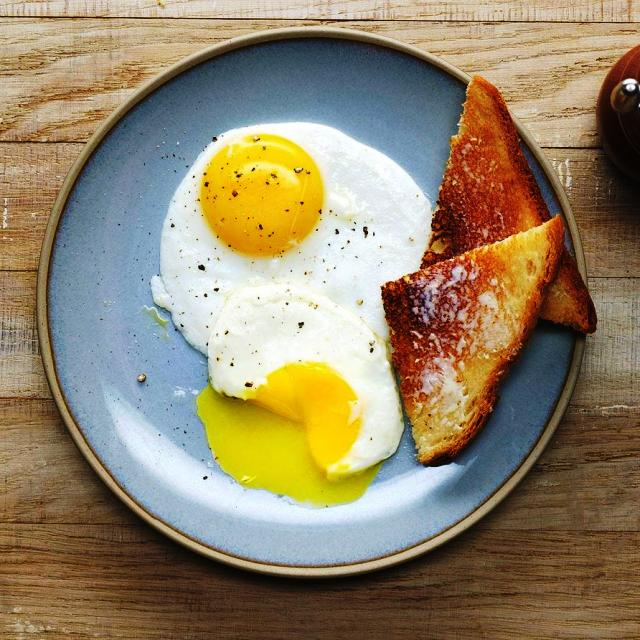fried_eggs: (152, 125, 432, 479)
